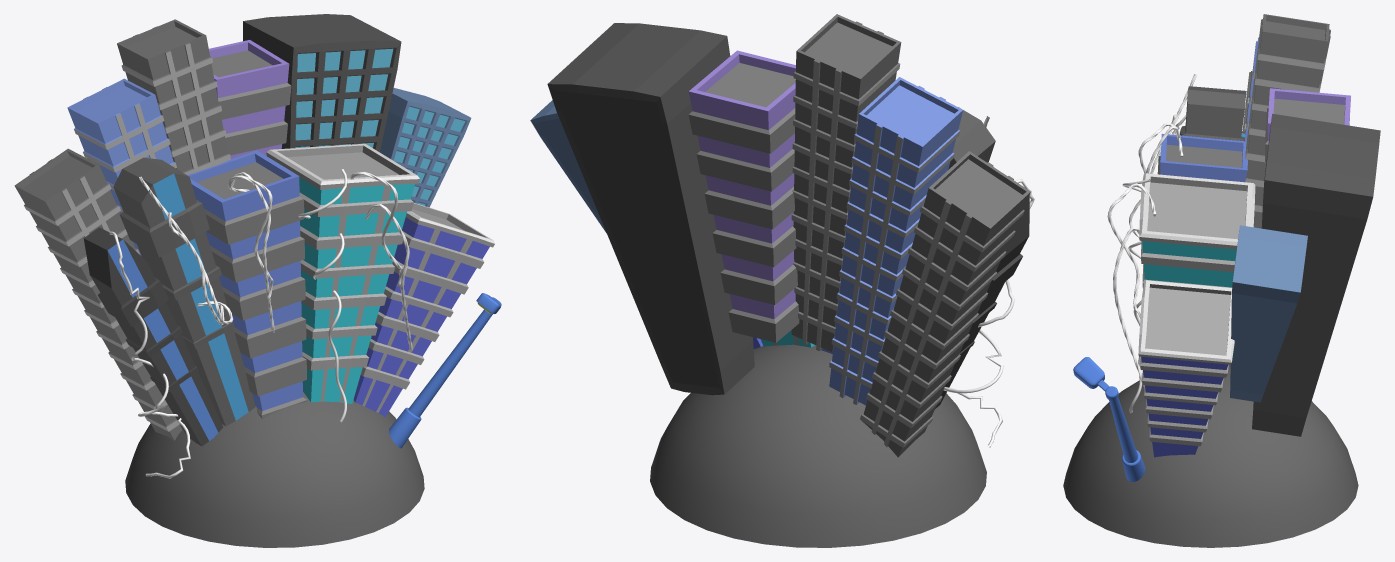
The model's file is orumcekBina.fbx.
3 views of the same model, side by side, from view 1: azimuth 30°, elevation 25°; view 2: azimuth 150°, elevation 25°; view 3: azimuth 270°, elevation 25° (orthographic). The views are drawn at different scales.
Parts seen in each view (by area): view 1: Sphere, Cube.004, Cube.005, Cube.008, Cube.009, Cube.018, Cube.017, Cube.011, Cube.006, Cube.010, Cube.007, Cube.021 (+6 smaller); view 2: Sphere, Cube.009, Cube.010, Cube.017, Cube.007, Cube.006, Cube.011, Cube.021, Cube.008, ag5; view 3: Sphere, Cube.009, Cube.018, Cube.004, Cube.021, Cube.006, Cube.005, Cube.008, Cube.010, lamba.001, ag2, ag1 (+2 smaller).
Part boxes in pixels (x1=…): Sphere: x1=125, y1=392, x2=424, y2=547; Cube.004: x1=266, y1=143, x2=419, y2=403; Cube.005: x1=187, y1=150, x2=307, y2=419; Cube.008: x1=113, y1=157, x2=255, y2=426; Cube.009: x1=243, y1=14, x2=401, y2=152; Cube.018: x1=353, y1=203, x2=494, y2=417; Cube.017: x1=14, y1=148, x2=182, y2=440; Cube.011: x1=83, y1=227, x2=223, y2=446; Cube.006: x1=117, y1=19, x2=230, y2=174; Cube.010: x1=209, y1=40, x2=291, y2=158; Cube.007: x1=67, y1=78, x2=176, y2=255; Cube.021: x1=380, y1=88, x2=471, y2=207; Sphere: x1=650, y1=344, x2=986, y2=547; Cube.009: x1=547, y1=23, x2=754, y2=395; Cube.010: x1=688, y1=50, x2=799, y2=342; Cube.017: x1=860, y1=151, x2=1030, y2=457; Cube.007: x1=829, y1=77, x2=962, y2=405; Cube.006: x1=791, y1=14, x2=901, y2=352; Cube.011: x1=935, y1=196, x2=1029, y2=408; Cube.021: x1=530, y1=100, x2=606, y2=233; Cube.008: x1=948, y1=107, x2=995, y2=169; ag5: x1=943, y1=179, x2=1034, y2=447; Sphere: x1=1063, y1=364, x2=1358, y2=547; Cube.009: x1=1252, y1=113, x2=1380, y2=436; Cube.018: x1=1138, y1=280, x2=1234, y2=457; Cube.004: x1=1139, y1=173, x2=1255, y2=288; Cube.021: x1=1230, y1=225, x2=1307, y2=402; Cube.006: x1=1245, y1=14, x2=1330, y2=228; Cube.005: x1=1157, y1=133, x2=1247, y2=182; Cube.008: x1=1180, y1=86, x2=1246, y2=141; Cube.010: x1=1265, y1=88, x2=1350, y2=170; lamba.001: x1=1073, y1=357, x2=1145, y2=481; ag2: x1=1107, y1=183, x2=1156, y2=388; ag1: x1=1138, y1=122, x2=1183, y2=173.
Bounding box in the file's own units: 959 × 963 × 639.
